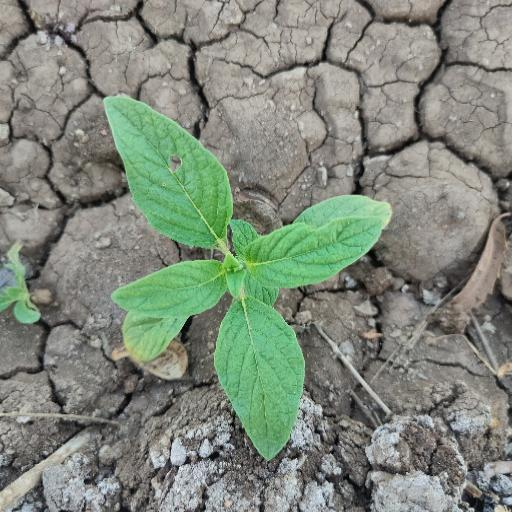crop: (98, 78, 391, 474)
